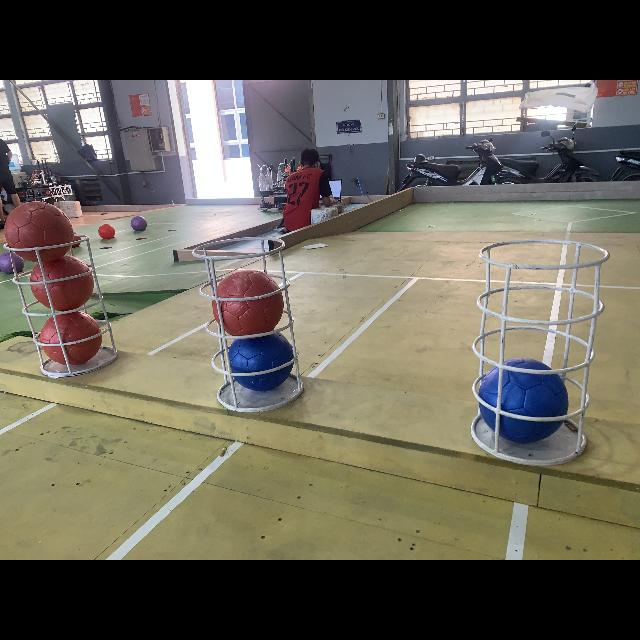B: (478, 358, 566, 444), (229, 330, 293, 390)
R: (212, 267, 284, 335), (4, 202, 74, 262), (30, 256, 95, 310), (41, 309, 103, 365)
